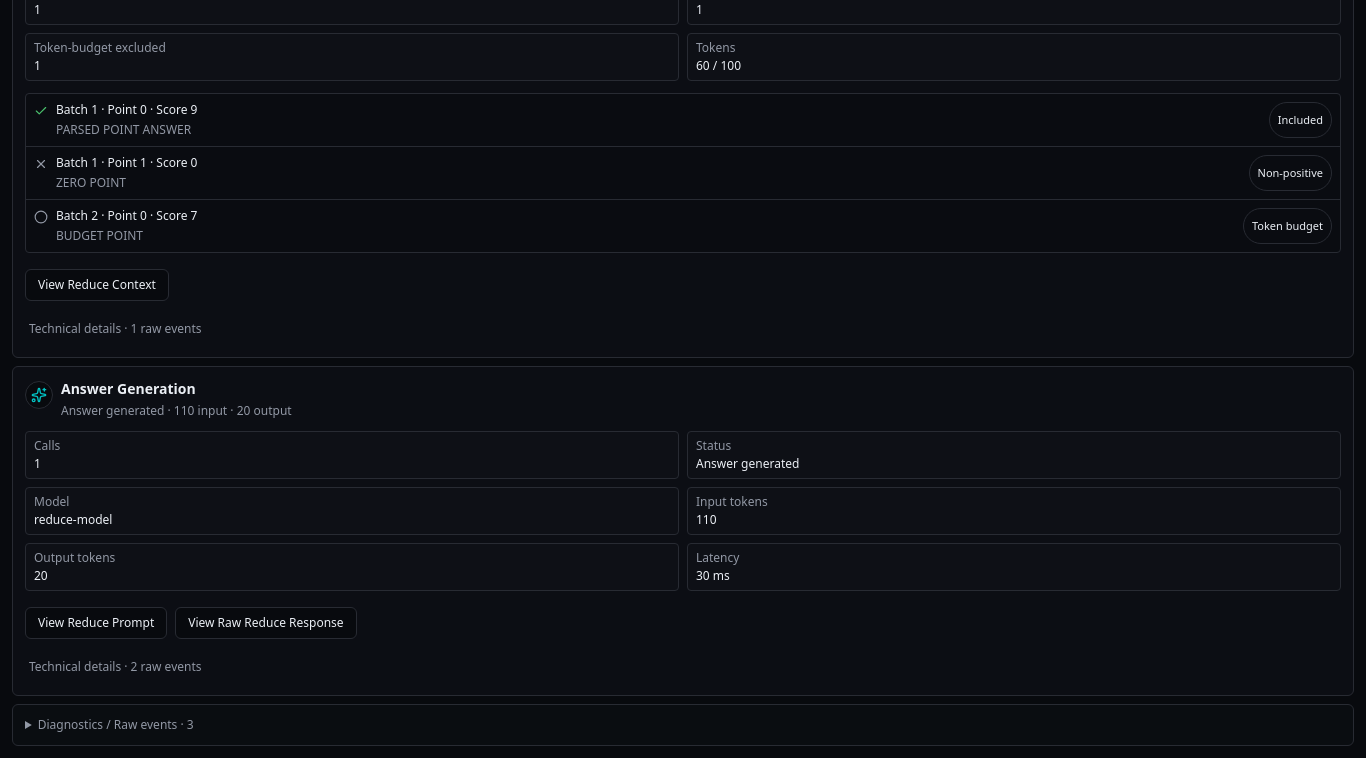
Scenario: Global Timeline › renders exactly four Global semantic steps and keeps lifecycle events in Diagnostics
(page scrolled)
Step 1. Click the heading "Diagnostics / Raw events · 3" → click(116, 725), box [38,716,194,733]
(page scrolled)
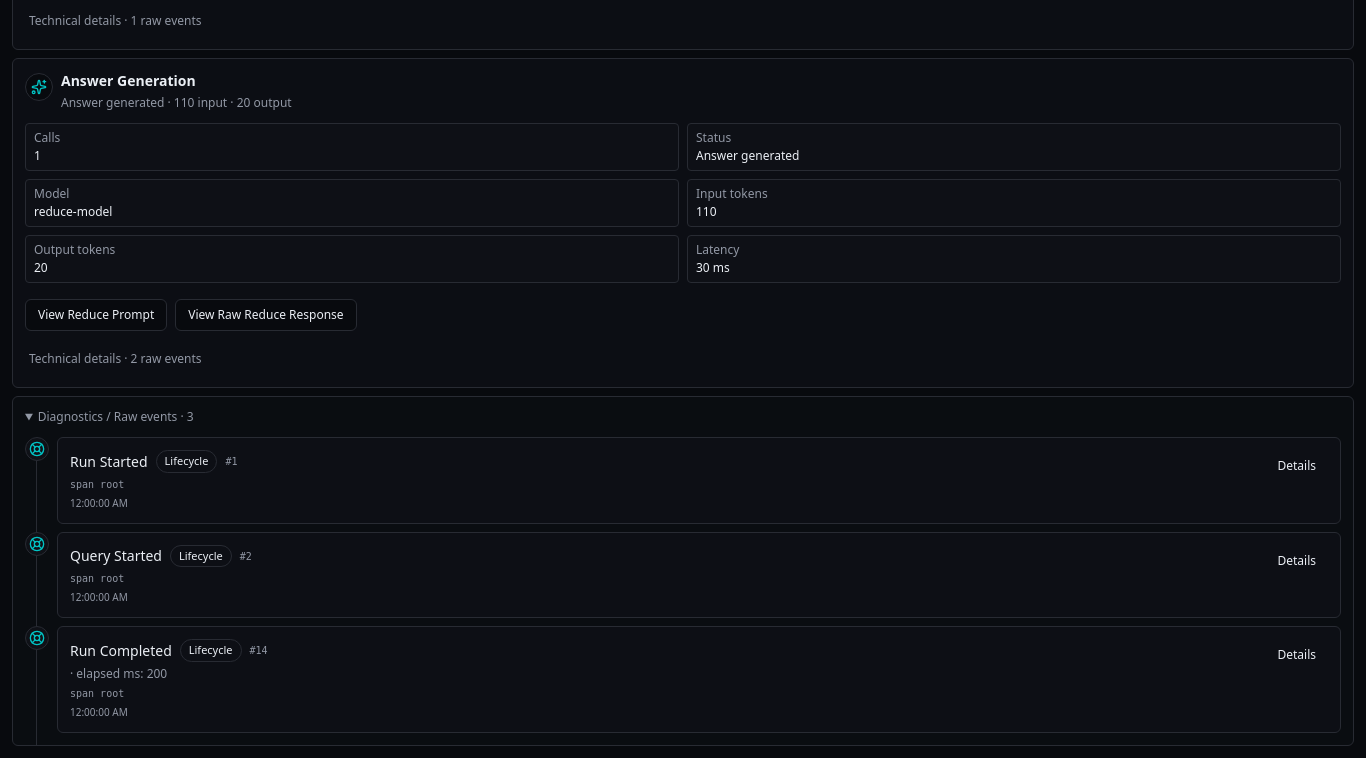
Expected: the text "Run started" is shown, [70,452,148,472]
Expected: the text "Query started" is shown, [70,546,162,566]
Expected: the text "Run completed" is shown, [70,641,172,661]
